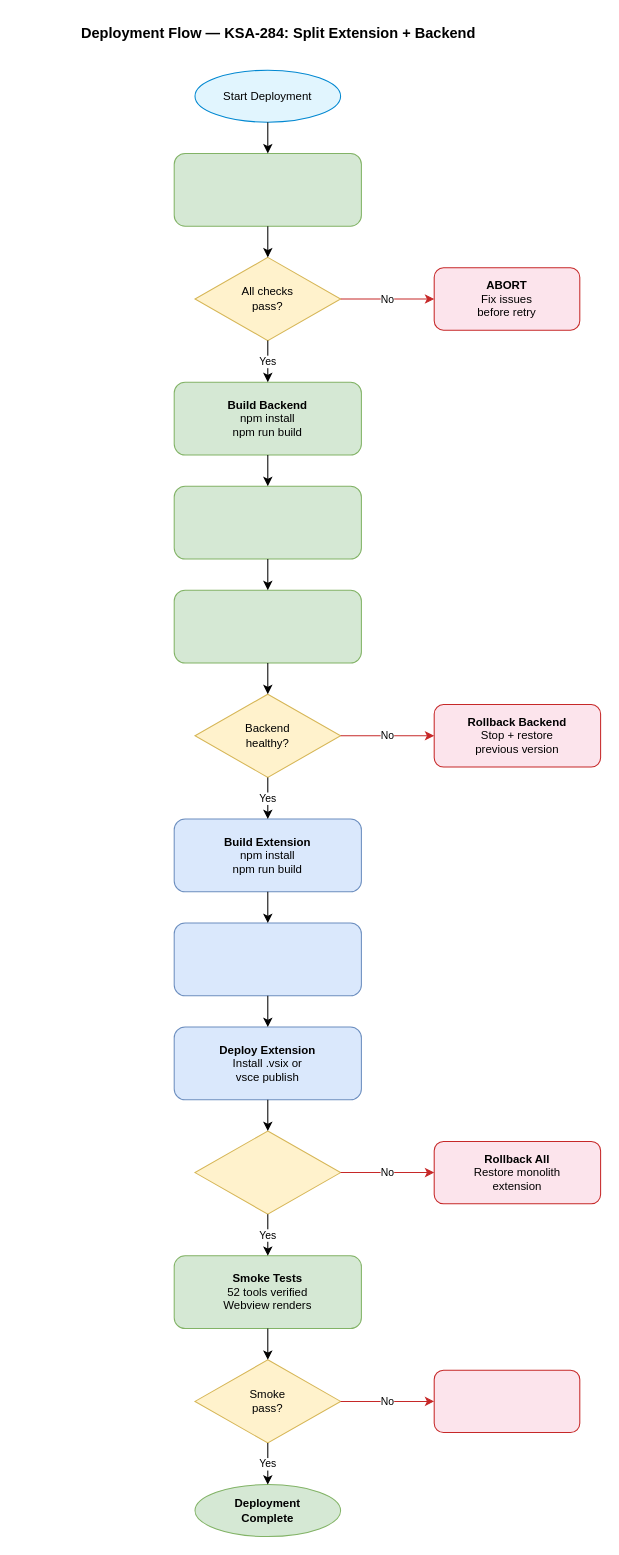
Image size: 619x1555. Some labels were removed from this diagram. Each missing label, with the centre of its shape:
"Deploy Backend Install + Start Port 48721" belongs at [267,626].
"Extension connected?" belongs at [267,1172].
"Package Backend npm pack (code-intel-backend-1.0.0.tgz)" belongs at [267,522].
"Package Extension vsce package (.vsix < 5MB)" belongs at [267,959].
"Pre-Deployment Verify checklist (tests, build, backup)" belongs at [267,189].
"Rollback Full rollback" belongs at [506,1401].
